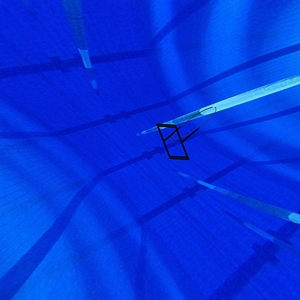circle: (156, 104, 217, 163)
